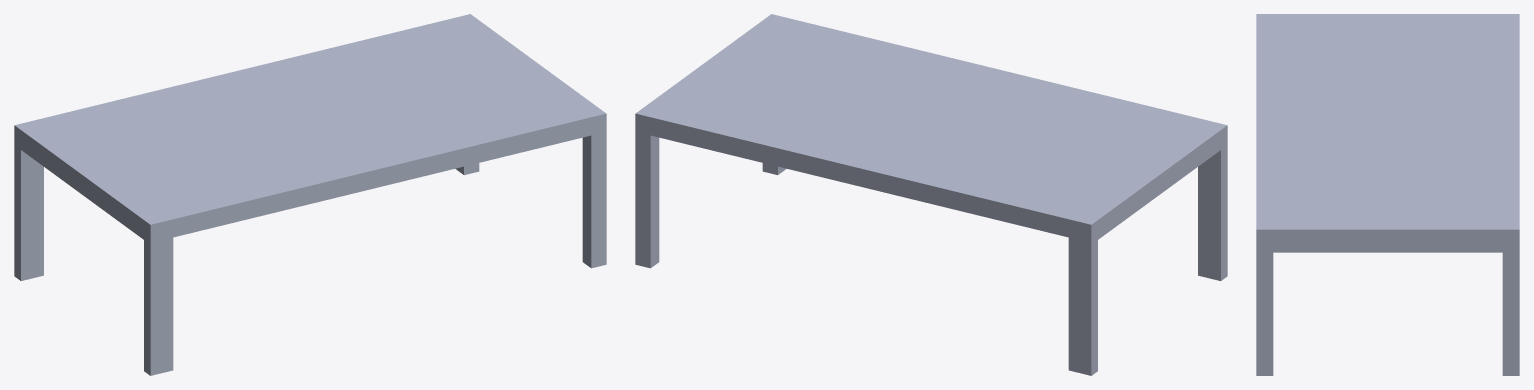
The model's file is Camera Controls.glb.
The picture shows the model from 3 angles, left to right: view 1: azimuth 30°, elevation 25°; view 2: azimuth 150°, elevation 25°; view 3: azimuth 270°, elevation 25°; orthographic projection. The views are drawn at different scales.
Parts seen in each view (by area): view 1: Mesh_Mesh_head_geo.001_lambert2SG.001; view 2: Mesh_Mesh_head_geo.001_lambert2SG.001; view 3: Mesh_Mesh_head_geo.001_lambert2SG.001.
Part boxes in pixels (x1,y1,x2,y2): Mesh_Mesh_head_geo.001_lambert2SG.001: (14,14,606,375); Mesh_Mesh_head_geo.001_lambert2SG.001: (635,14,1227,375); Mesh_Mesh_head_geo.001_lambert2SG.001: (1256,14,1519,375).
Bounding box in the file's own units: 120 × 38.01 × 62.
